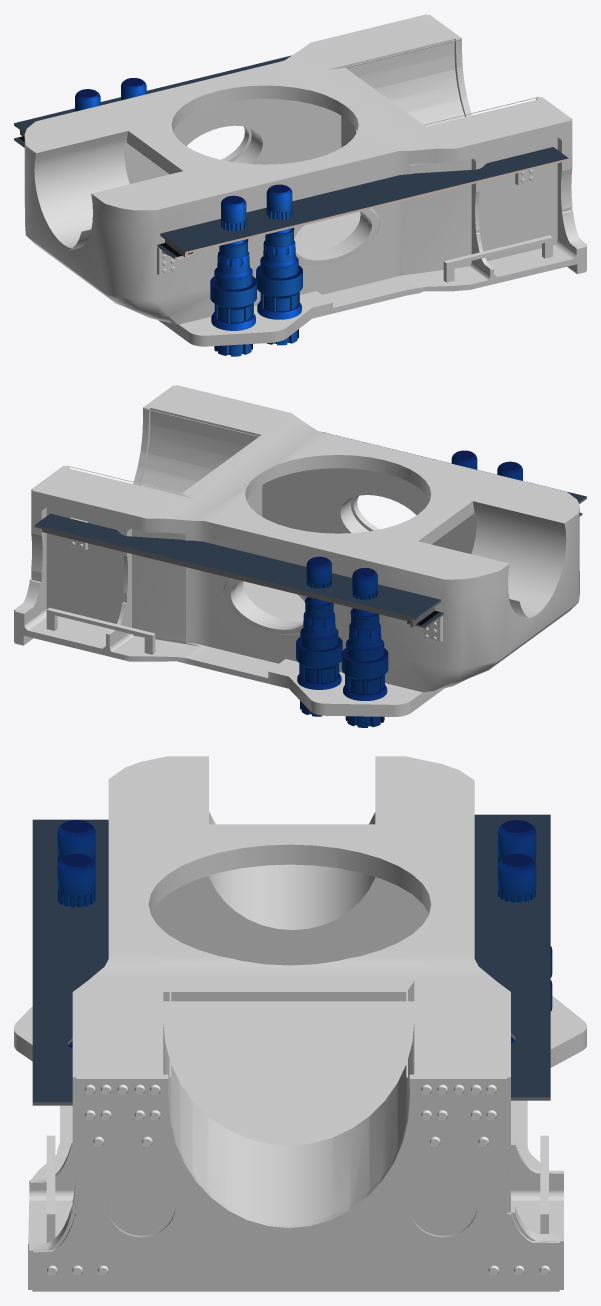
Rendered from dizuo_1.glb.
3 views of the same model, one above another, from view 1: azimuth 30°, elevation 25°; view 2: azimuth 150°, elevation 25°; view 3: azimuth 270°, elevation 25° (orthographic). The views are drawn at different scales.
Parts seen in each view (by area): view 1: 底盘1; view 2: 底盘1; view 3: 底盘1.
Part boxes in pixels (x1,y1,x2,y2): 底盘1: (14,14,586,356); 底盘1: (14,385,586,727); 底盘1: (14,756,586,1291).
Size of the model in its own units: 17.38 by 5.48 by 12.69.
7 materials, 3 textured.
